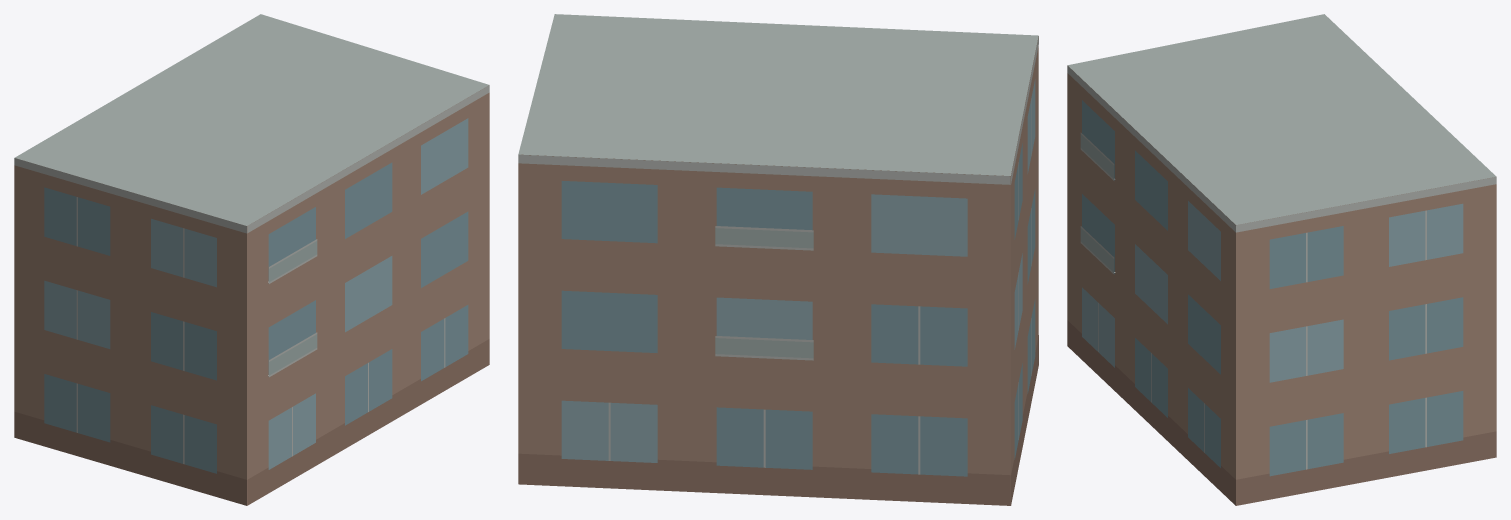
Rendered from survey-upis-32703436.glb.
3 renders of one model, left to right at view 1: azimuth 30°, elevation 25°; view 2: azimuth 150°, elevation 25°; view 3: azimuth 270°, elevation 25°, orthographic. The views are drawn at different scales.
Visible parts, largest first — view 1: survey-upis-32703436.tmp; view 2: survey-upis-32703436.tmp; view 3: survey-upis-32703436.tmp.
Part boxes in pixels (x1=…): survey-upis-32703436.tmp: x1=14, y1=14, x2=489, y2=505; survey-upis-32703436.tmp: x1=518, y1=14, x2=1038, y2=505; survey-upis-32703436.tmp: x1=1067, y1=14, x2=1496, y2=505.
Size of the model in its own units: 14.77 by 9.15 by 12.69.
